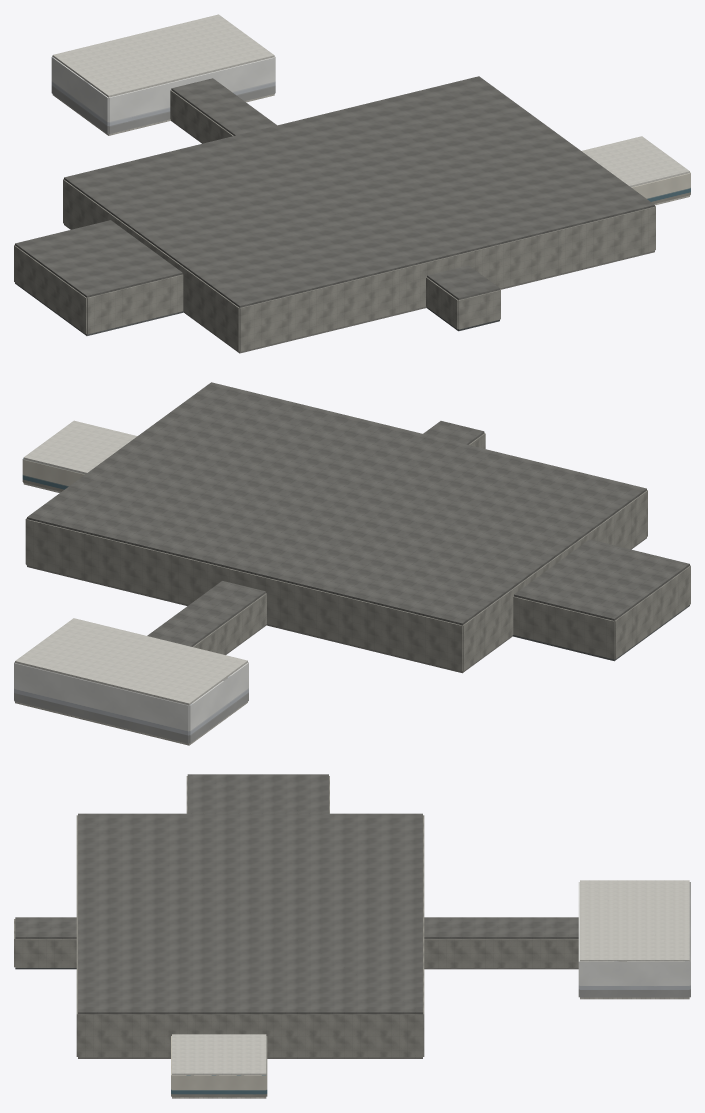
The model's file is op06_shell.glb.
3 views of the same model, one above another, from view 1: azimuth 30°, elevation 25°; view 2: azimuth 150°, elevation 25°; view 3: azimuth 270°, elevation 25° (orthographic). The views are drawn at different scales.
Parts seen in each view (by area): view 1: op06_shell; view 2: op06_shell; view 3: op06_shell.
Boxes of the visible parts, <box> form: op06_shell: <box>14,14,690,353</box>; op06_shell: <box>14,382,690,745</box>; op06_shell: <box>14,774,690,1098</box>.
Size of the model in its own units: 86.3 by 6.55 by 86.3.
9 materials, 9 textured.
